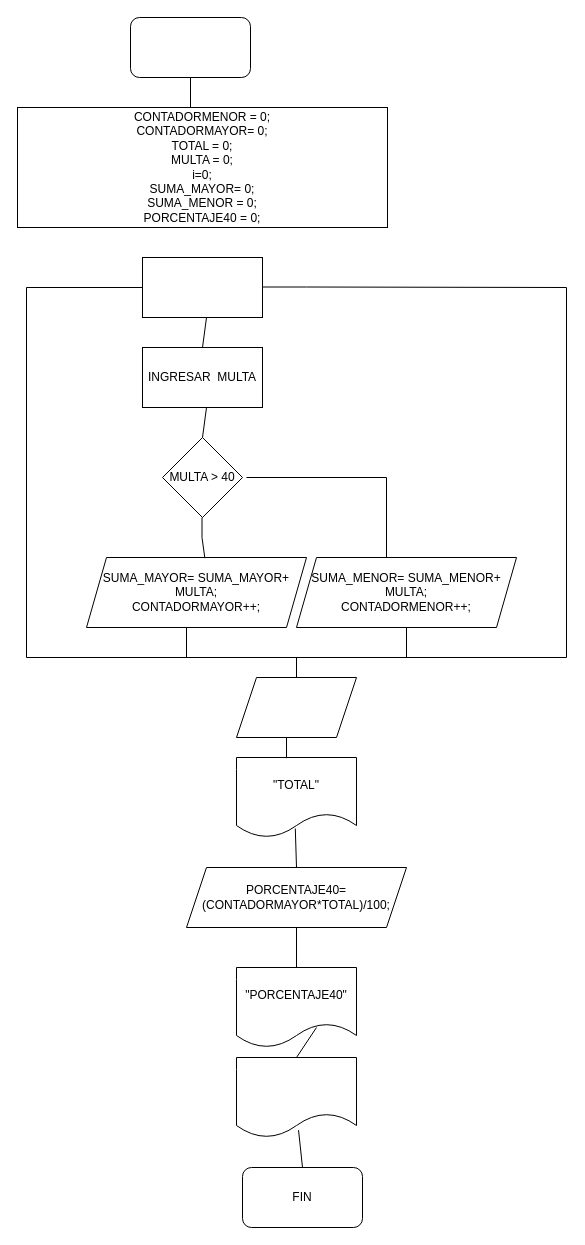
This 585x1245 diagram has some shape labels left out. The centre of each missing label's shape, as x and y in pixels:
"CONTADORMAYOR": (x=296, y=1097)
i = 1 a 50: (x=202, y=287)
INICIO: (x=190, y=47)
TOTAL = SUMA_MAYOR + SUMA_MENOR;: (x=296, y=707)
